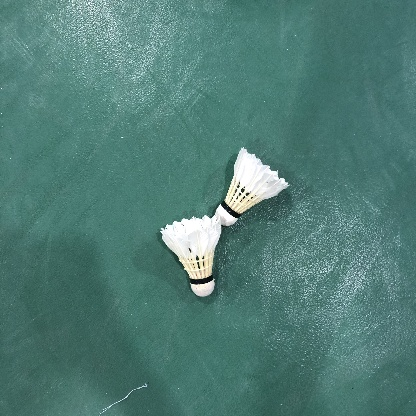ball_single: (215, 147, 290, 226), (160, 215, 221, 297)
